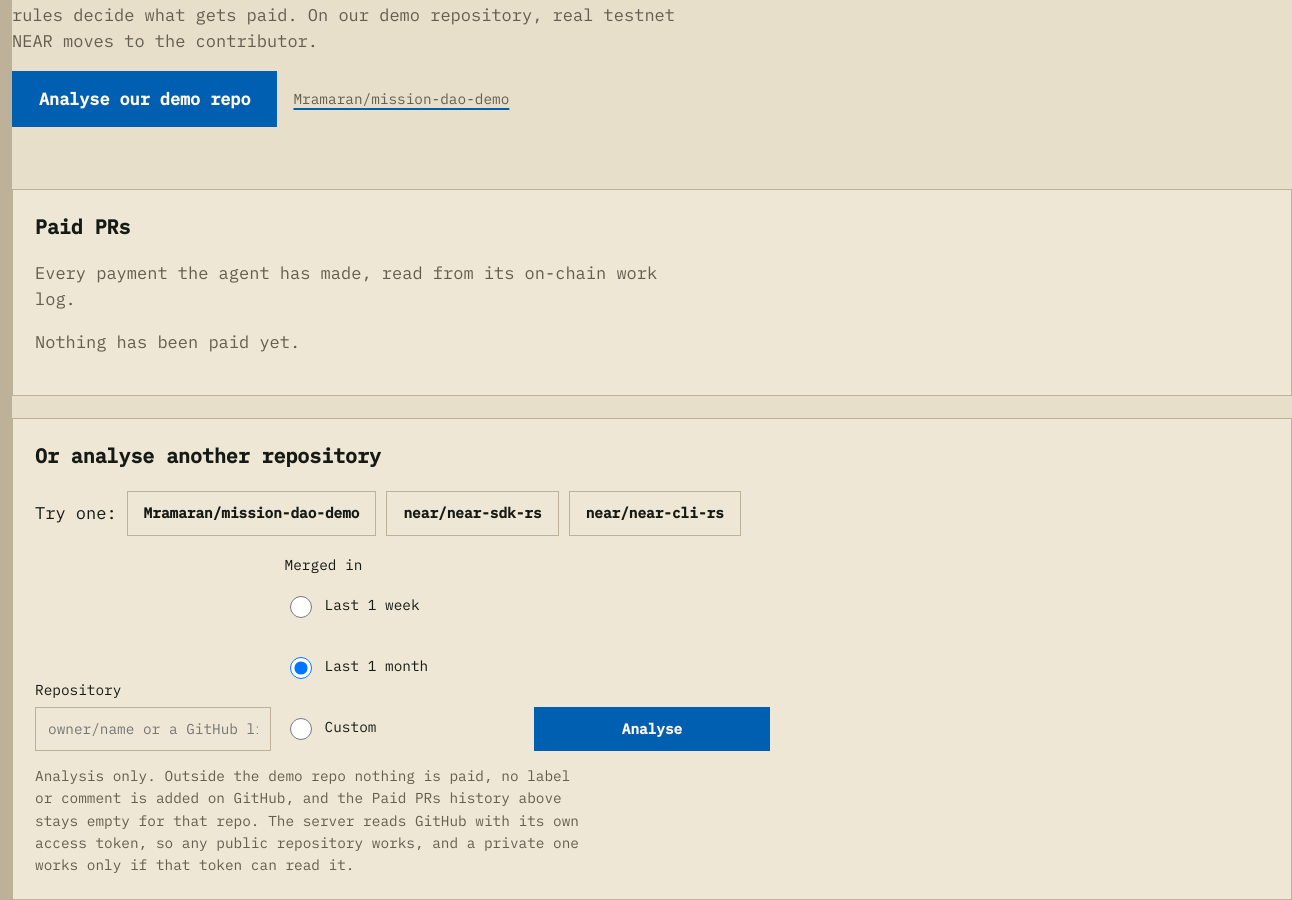
AnalyseRepo › renders each status copy
The width and height of the screenshot is (1292, 900).
(page scrolled)
In the field labelled "Repository": (153, 729) [35,707,271,751], type "o/r"
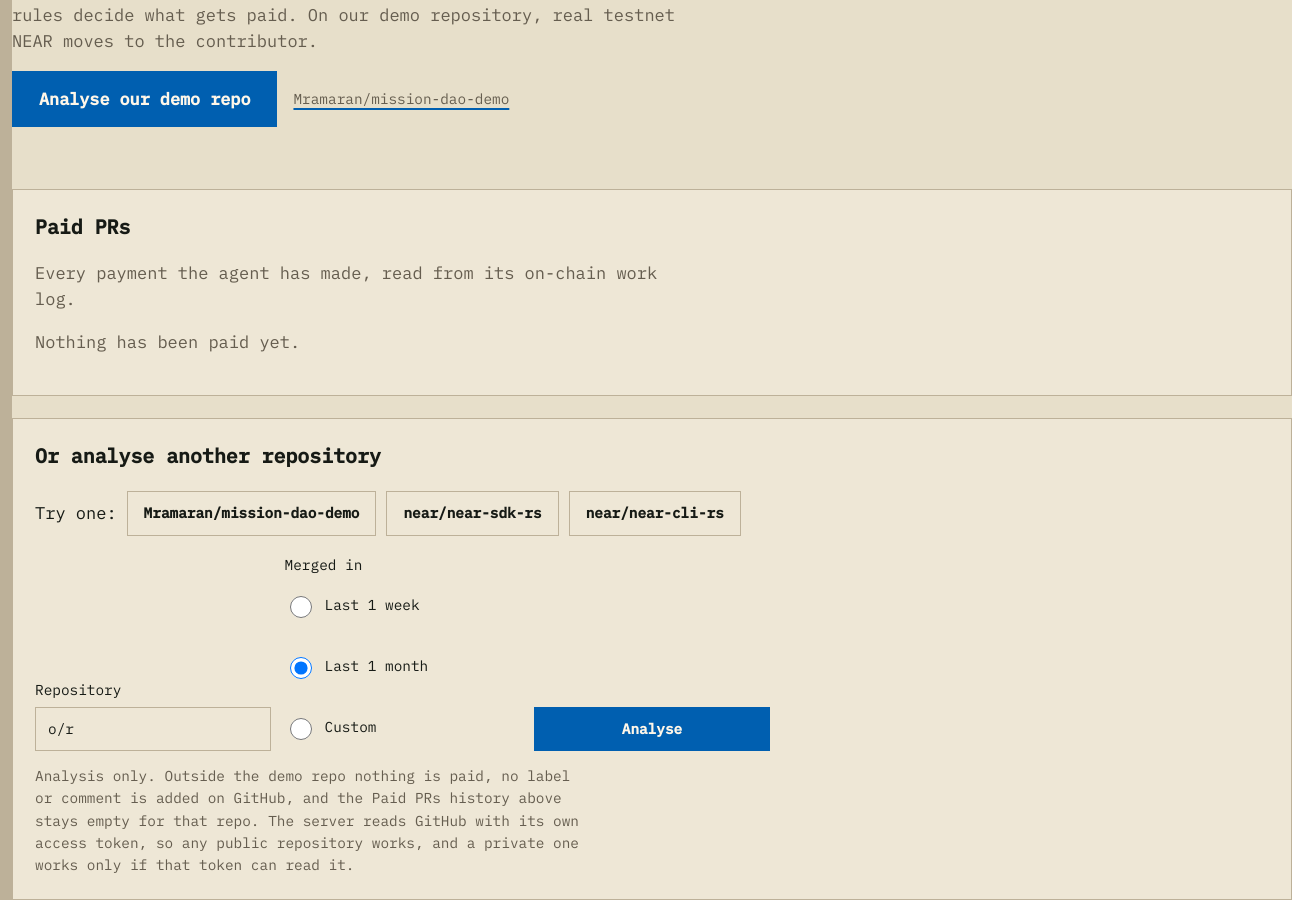
Click the button "Analyse": click(652, 729) [534,707,770,751]
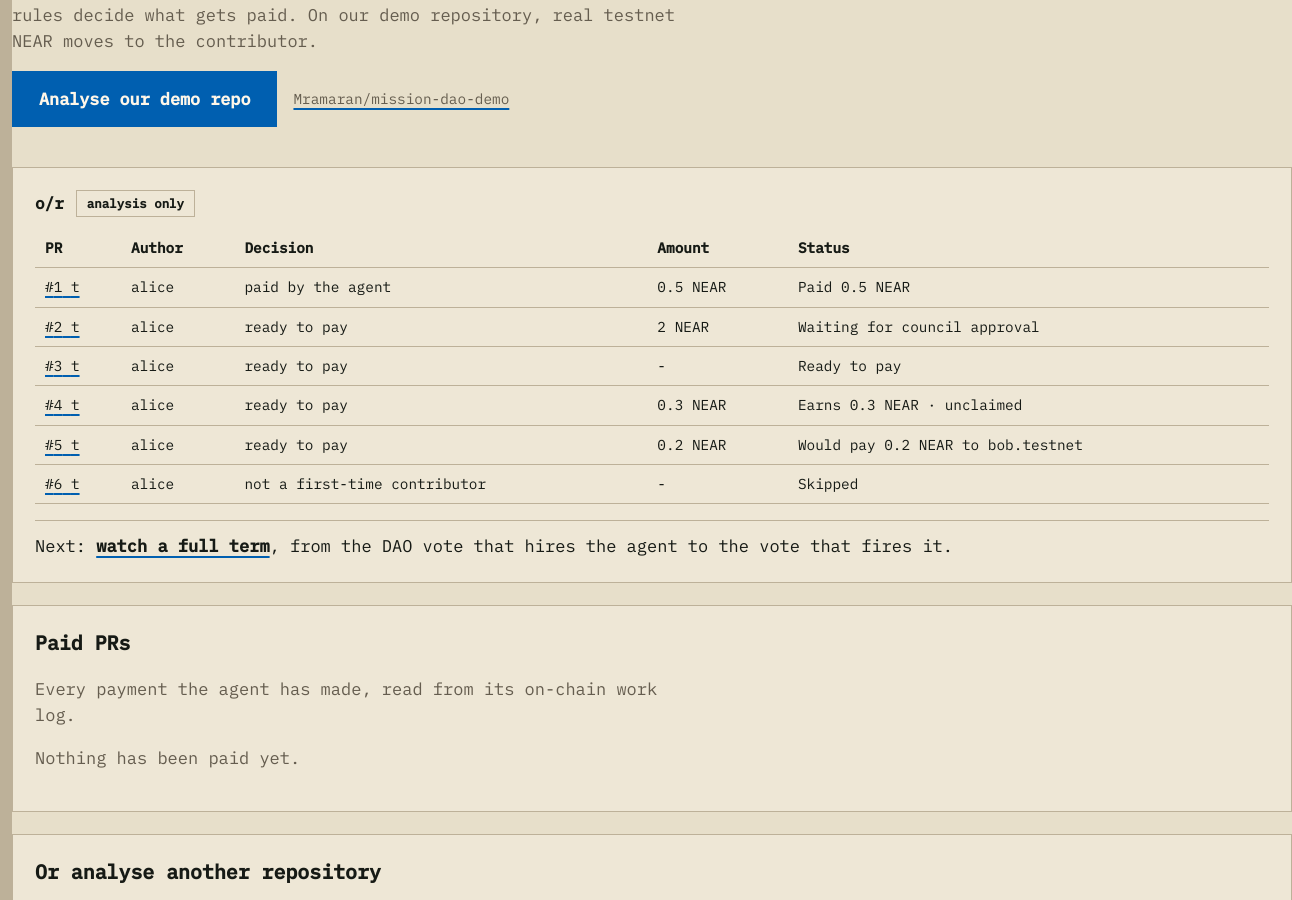
Check: the text "Waiting for council approval" is shown, box [788,307,1269,346]
Check: the text "Ready to pay" is shown, box [788,346,1269,386]
Check: the text "Earns 0.3 NEAR · unclaimed" is shown, box [788,386,1269,425]
